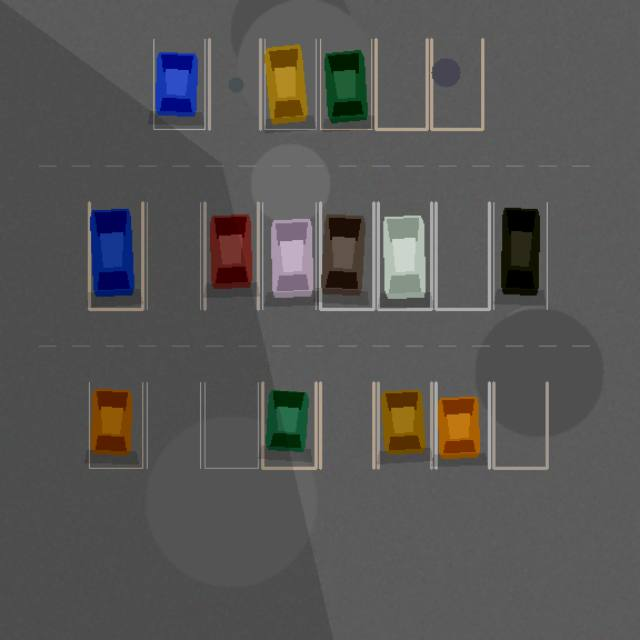space-empty: (147, 202, 200, 309), (436, 202, 489, 309), (204, 382, 258, 468), (493, 382, 547, 468), (209, 39, 260, 129), (376, 39, 427, 129), (431, 39, 482, 129), (147, 382, 200, 468), (320, 382, 373, 468)
space-occupied: (204, 202, 258, 309), (262, 202, 316, 309), (493, 202, 547, 309), (89, 202, 142, 309), (320, 202, 373, 309), (378, 202, 431, 309), (264, 39, 316, 129), (262, 382, 316, 468), (153, 39, 204, 129), (320, 39, 371, 129), (89, 382, 142, 468), (378, 382, 431, 468), (436, 382, 489, 468)
